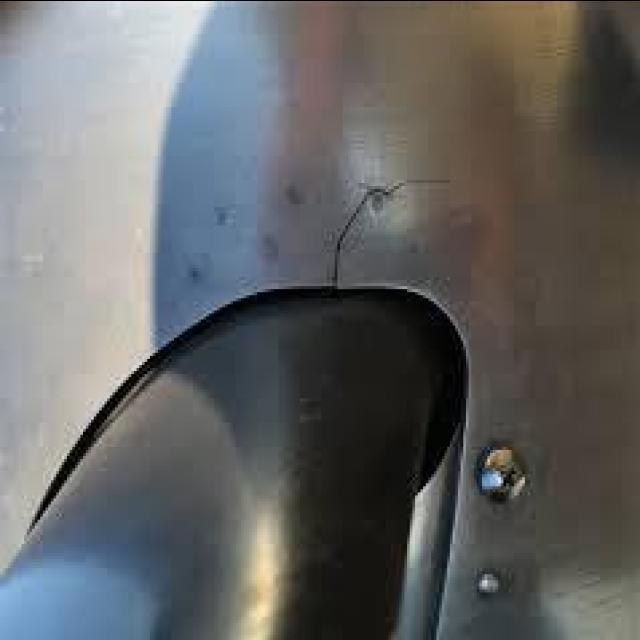Crack: (327, 173, 457, 291)
